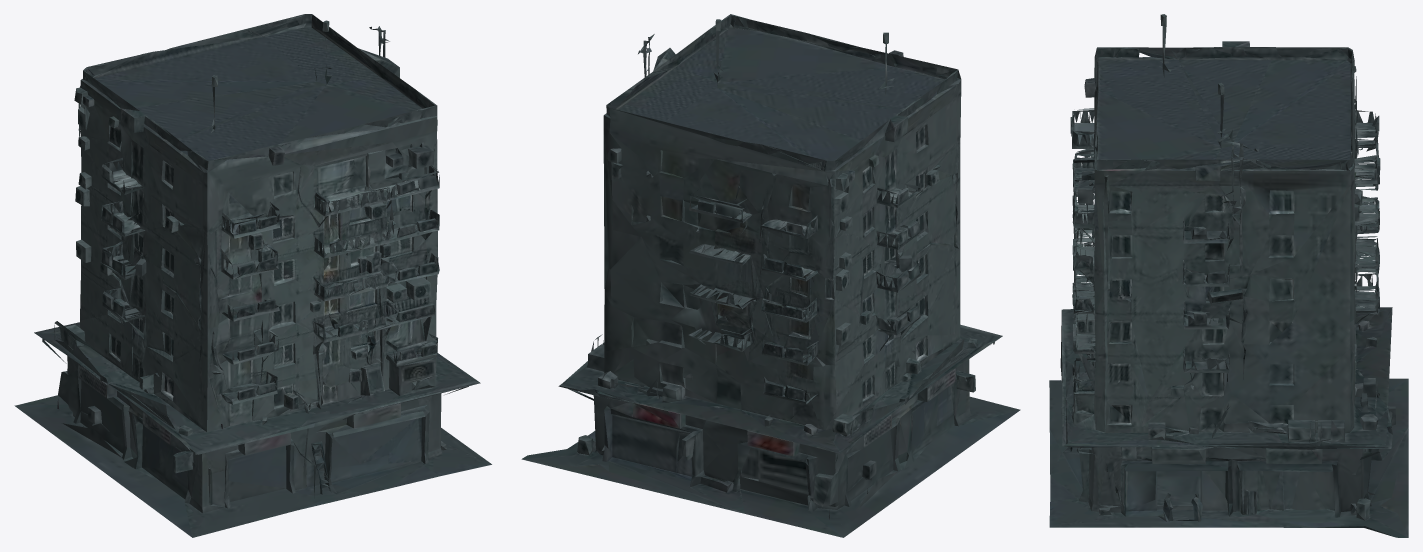
Rendered from mx_bld_apartment.glb.
3 renders of one model, left to right at view 1: azimuth 30°, elevation 25°; view 2: azimuth 150°, elevation 25°; view 3: azimuth 270°, elevation 25°, orthographic.
Size of the model in its own units: 1.61 by 1.9 by 1.53.
Materials: 1 (1 with a texture image).
